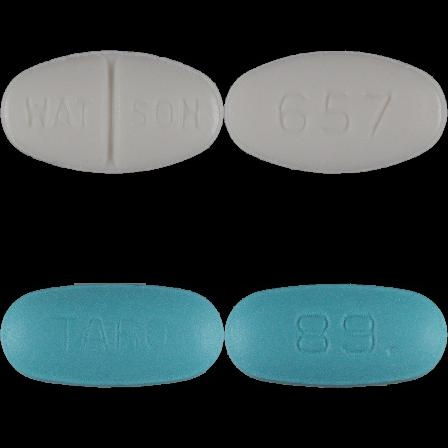63629-3197: (0, 0, 224, 224)
